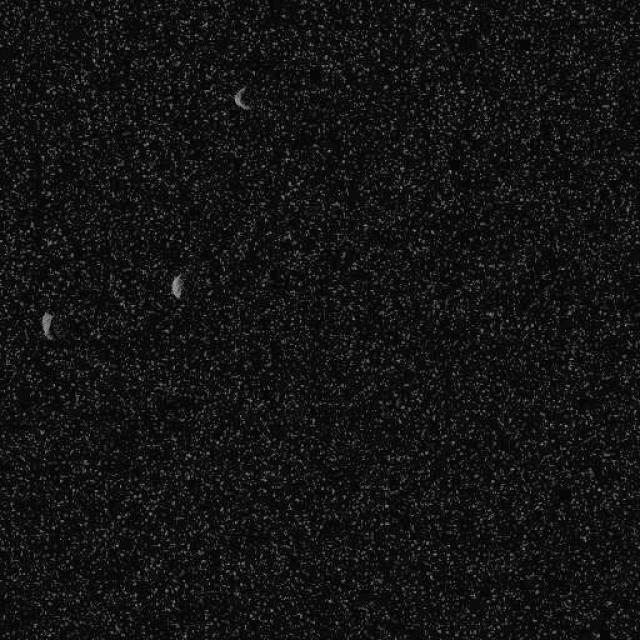D2: (231, 85, 250, 111), (39, 310, 55, 340), (168, 272, 184, 298)
